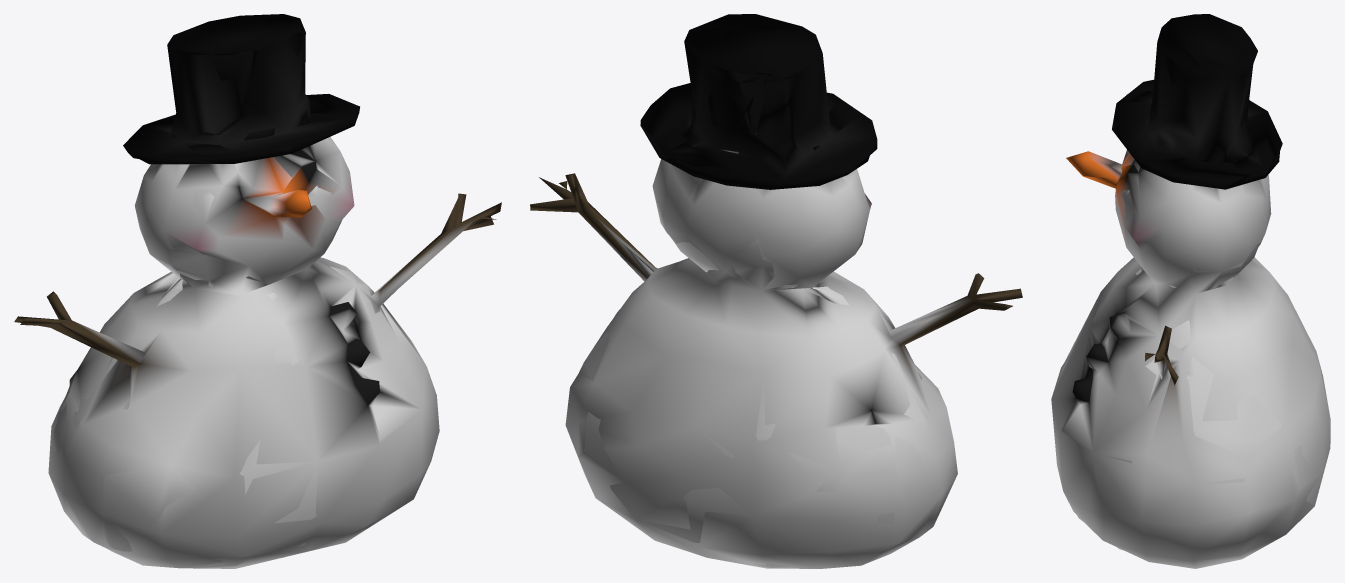
The model's file is gen3d-snowman-with-hat-lod1.glb.
3 renders of one model, left to right at view 1: azimuth 30°, elevation 25°; view 2: azimuth 150°, elevation 25°; view 3: azimuth 270°, elevation 25°, orthographic. The views are drawn at different scales.
Parts seen in each view (by area): view 1: part_0; view 2: part_0; view 3: part_0.
Boxes of the visible parts, box(x1,y1,x2,y2) form: part_0: box(14, 14, 501, 568); part_0: box(530, 14, 1022, 568); part_0: box(1051, 14, 1330, 568).
Size of the model in its own units: 1.01 by 0.9928 by 0.5255.
